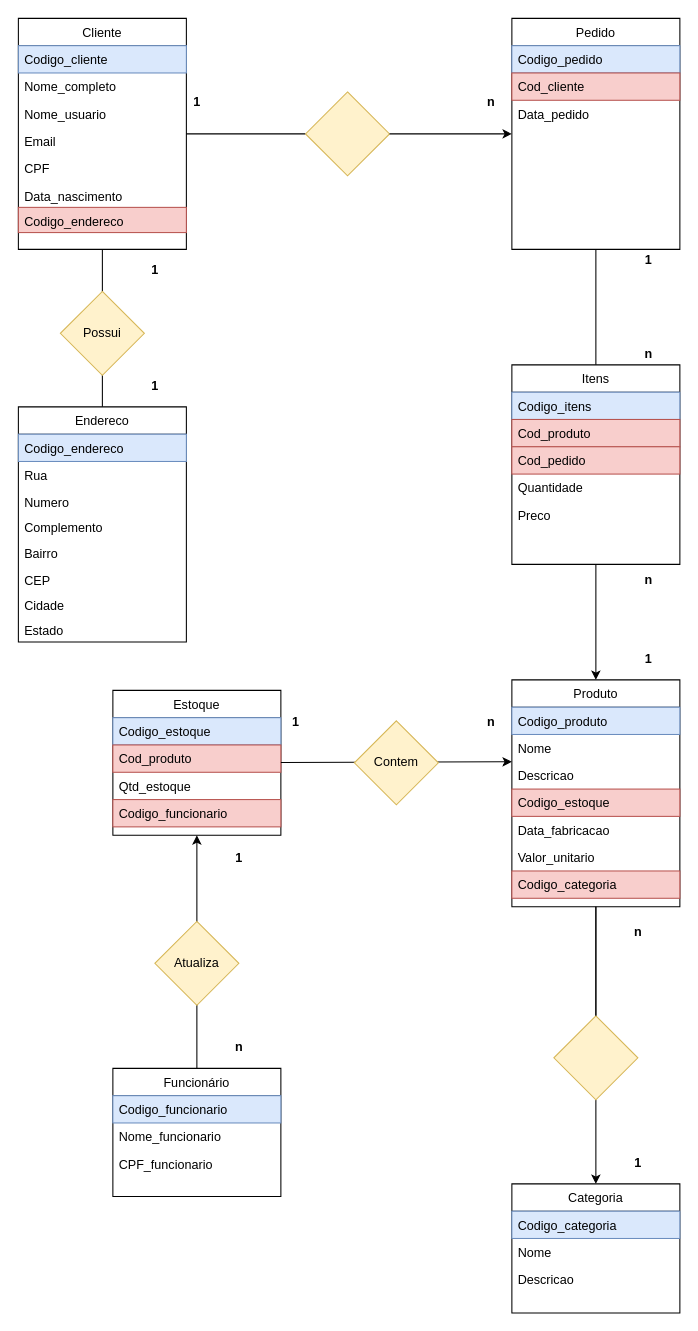
The diagram is 698 pixels wide and 1331 high, and some of its shapes have lost their labels. The shapes that lost their labels are listed below. From the top down, each one's centre as x and y in pixels, then its label:
At point (347, 133): "Efetua".
At point (595, 1057): "Pertence".
